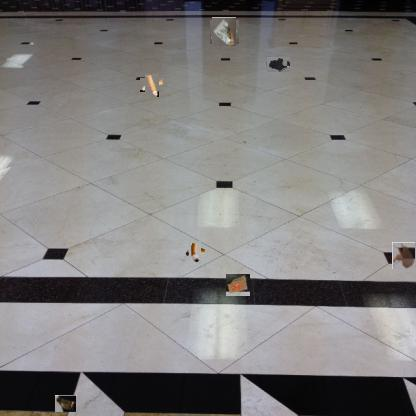dirty: (211, 19, 238, 45), (226, 274, 250, 296), (143, 75, 161, 95), (56, 395, 77, 412), (186, 243, 204, 261)
liquid: (392, 242, 415, 269), (266, 56, 290, 72)
